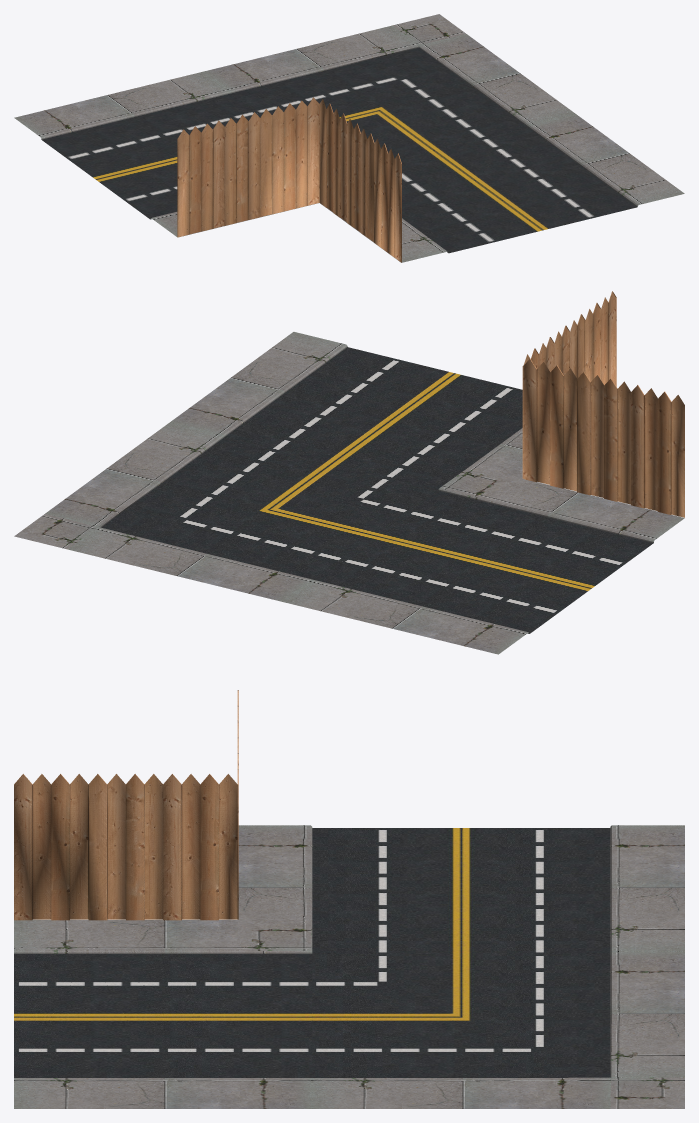
The model's file is road_corner_fence_inside.obj.
3 renders of one model, top to bottom at view 1: azimuth 30°, elevation 25°; view 2: azimuth 150°, elevation 25°; view 3: azimuth 270°, elevation 25°, orthographic. The views are drawn at different scales.
Parts seen in each view (by area): view 1: ROAD_TILE_Plane.001_ROAD_TILE_Plane.015; view 2: ROAD_TILE_Plane.001_ROAD_TILE_Plane.015; view 3: ROAD_TILE_Plane.001_ROAD_TILE_Plane.015.
Boxes of the visible parts, box(x1,y1,x2,y2) form: ROAD_TILE_Plane.001_ROAD_TILE_Plane.015: box(14, 14, 684, 262); ROAD_TILE_Plane.001_ROAD_TILE_Plane.015: box(14, 291, 684, 654); ROAD_TILE_Plane.001_ROAD_TILE_Plane.015: box(14, 690, 684, 1108).
Bounding box in the file's own units: 45.01 × 11.02 × 45.
